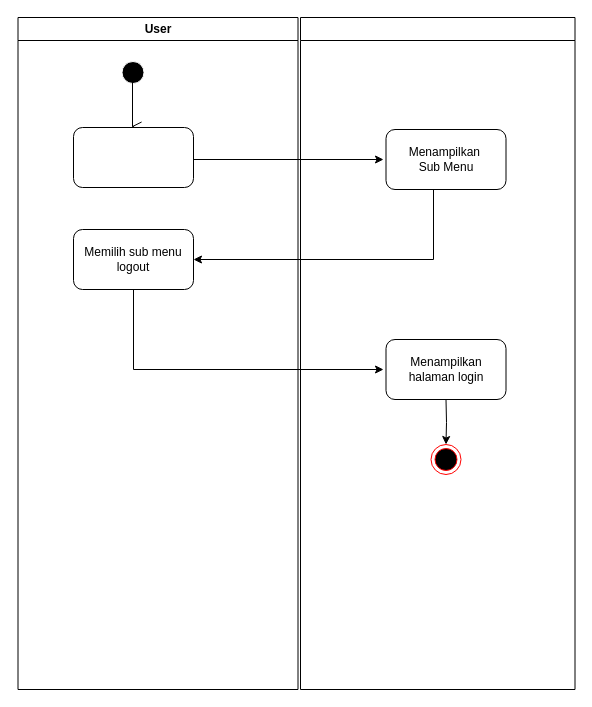
Some shapes in this 592 by 707 pixel diagram are drawn without their labels. The shapes that lost their labels are listed below. From the top down, each one's box as (x1, y1, x2, y2) in pixels, then its label:
(72, 126, 194, 188): Klik Menu
(300, 16, 575, 690): Sistem
